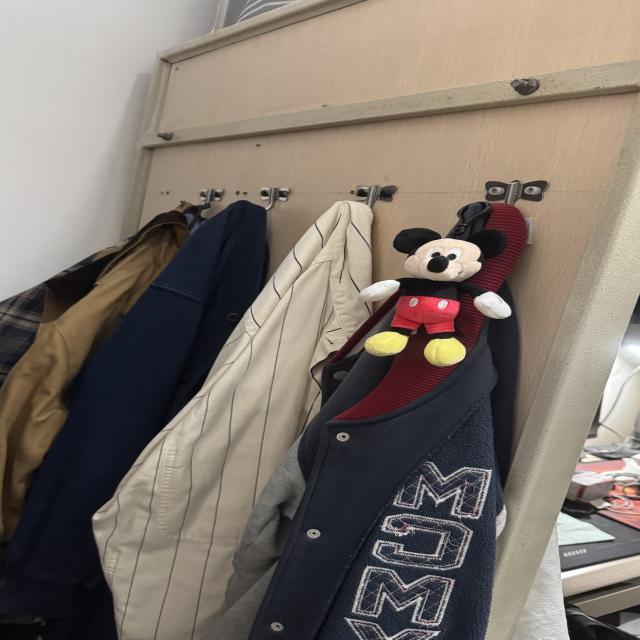mickey: (359, 229, 511, 366)
